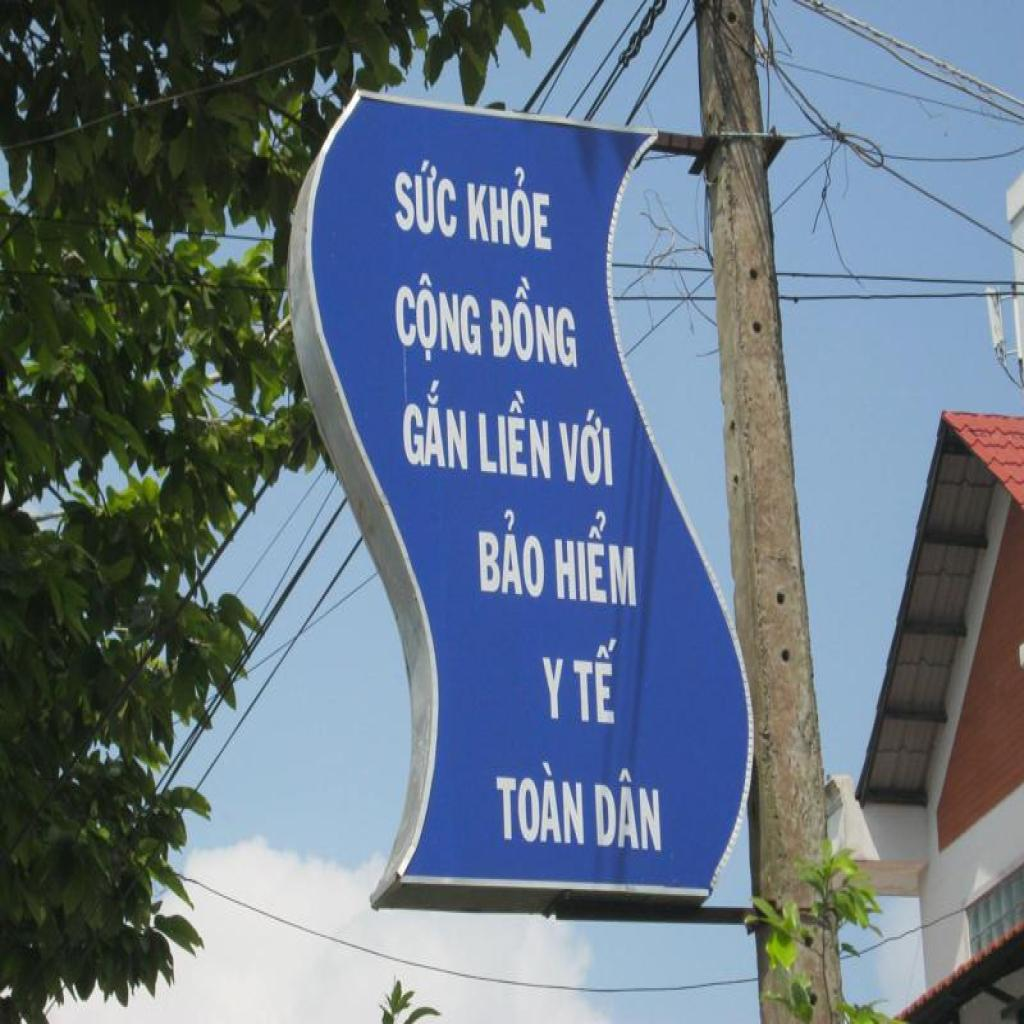text: (489, 272, 580, 378), (554, 505, 642, 613), (394, 266, 485, 367), (493, 758, 589, 852), (467, 162, 556, 254), (479, 384, 557, 488), (475, 503, 549, 601), (402, 374, 471, 474), (389, 154, 461, 248), (558, 405, 618, 493), (575, 636, 621, 728), (536, 650, 571, 724)
